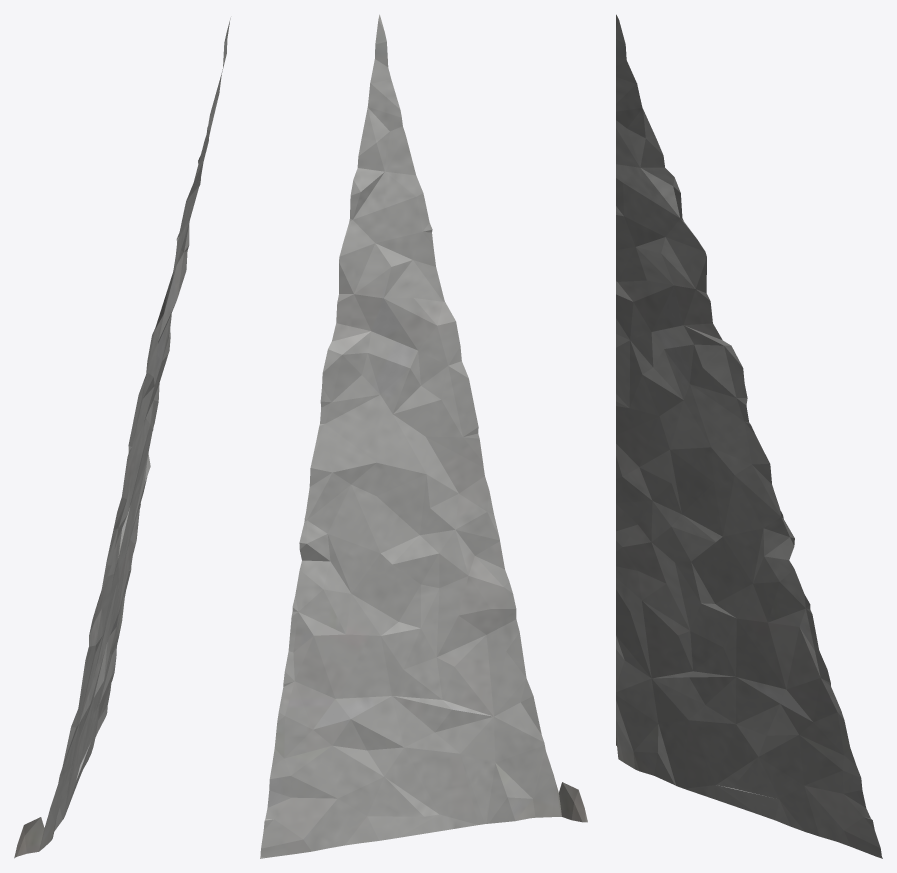
The picture shows the model from 3 angles, left to right: view 1: azimuth 30°, elevation 25°; view 2: azimuth 150°, elevation 25°; view 3: azimuth 270°, elevation 25°; orthographic projection. The views are drawn at different scales.
Bounding box in the file's own units: 0.2057 × 0.7148 × 0.2046.
1 material, 1 textured.
